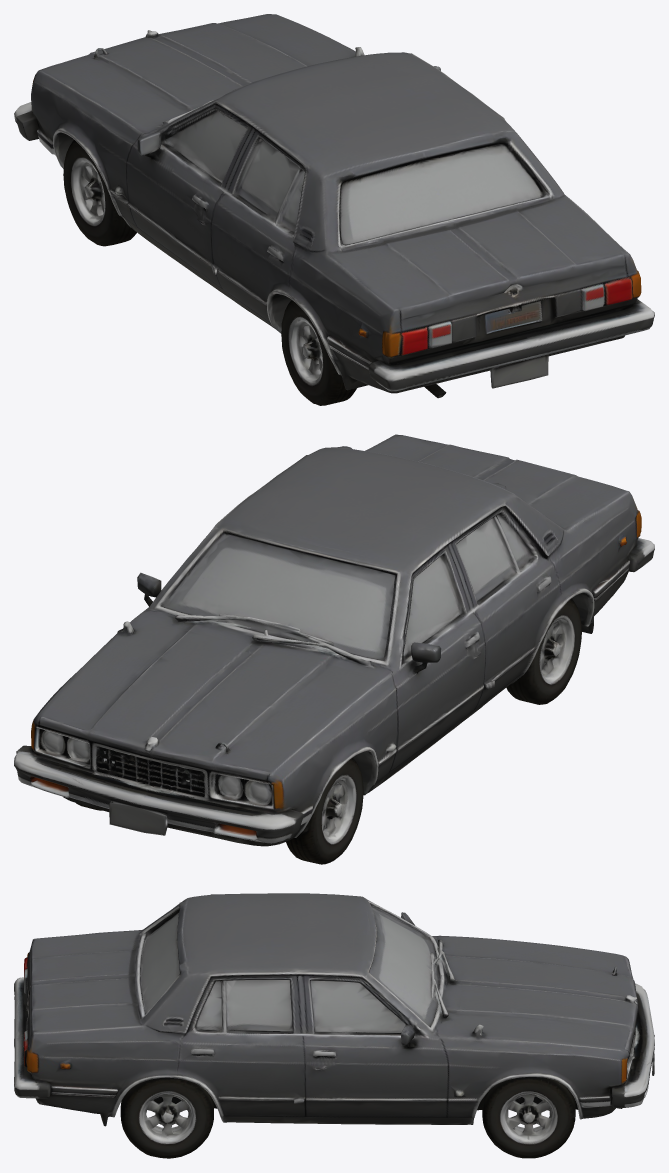
The model's file is sedan.glb.
3 views of the same model, one above another, from view 1: azimuth 30°, elevation 25°; view 2: azimuth 150°, elevation 25°; view 3: azimuth 270°, elevation 25° (orthographic). The views are drawn at different scales.
Visible parts, largest first — view 1: tripo_node_11726ea5-6ace-4542-93ed-9cac8ebf1985; view 2: tripo_node_11726ea5-6ace-4542-93ed-9cac8ebf1985; view 3: tripo_node_11726ea5-6ace-4542-93ed-9cac8ebf1985.
Part boxes in pixels (x1,y1,x2,y2): tripo_node_11726ea5-6ace-4542-93ed-9cac8ebf1985: [14, 14, 654, 405]; tripo_node_11726ea5-6ace-4542-93ed-9cac8ebf1985: [14, 434, 654, 864]; tripo_node_11726ea5-6ace-4542-93ed-9cac8ebf1985: [14, 893, 654, 1158].
Bounding box in the file's own units: 0.4501 × 0.3174 × 1.
Materials: 1 (1 with a texture image).
